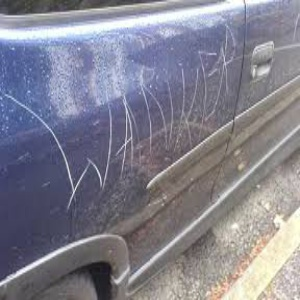door_scratch: (8, 26, 243, 231)
